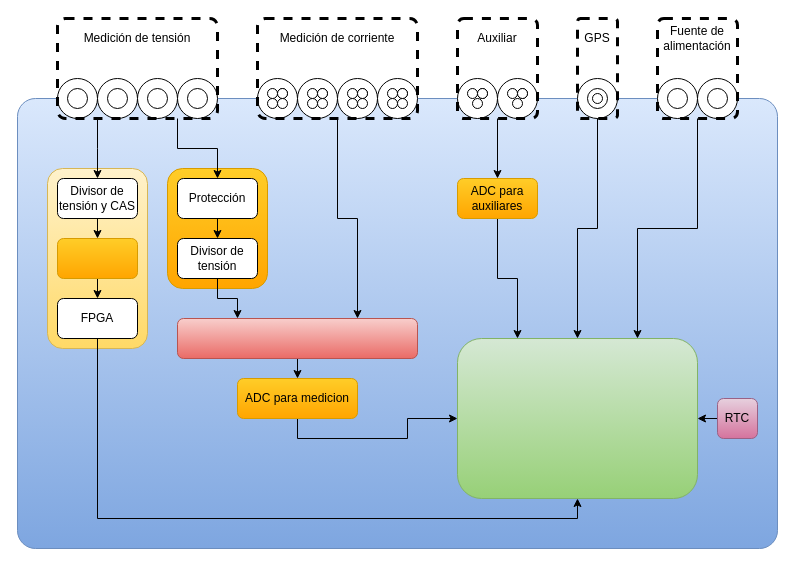
Some shapes in this 795 by 566 pixel diagram are drawn without their labels. Each missing label, with the centre of its shape:
"ADC para transitorios" belongs at (x=97, y=258).
"Circuito de acondicionamiento de señal (CAS)" belongs at (x=297, y=338).
"Computadora principal (microcontrolador o Raspberry Pi)" belongs at (x=577, y=418).
